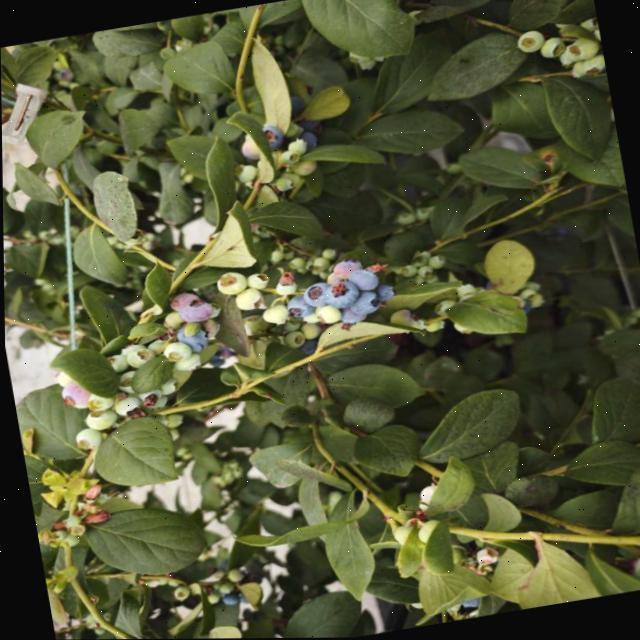RipeBlueBerry: (321, 277, 361, 311), (347, 288, 385, 316), (348, 264, 381, 292), (283, 292, 314, 318)
Semi-RipeBlueBerry: (176, 296, 214, 323)
UnripeBlueBerry: (214, 269, 249, 297), (231, 286, 267, 312)
